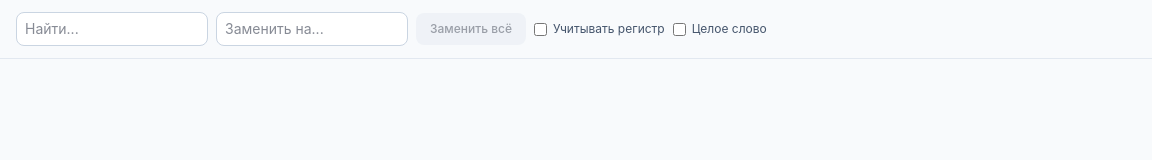
Test case: FindReplacePanel › excludes case-mismatched matches once "Учитывать регистр" is checked
Type "ВОЛКА" into the field labelled "Найти".
click(112, 29); type("ВОЛКА")  # box [16,12,208,46]
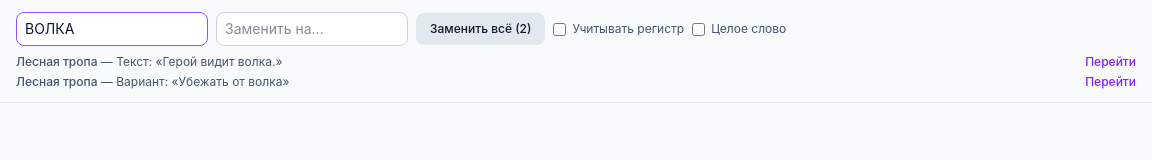
Check: the button "Заменить всё (2)" is shown, box [416,13,545,45]
Click the checkbox labelled "Учитывать регистр".
click(560, 29)  # box [553,22,566,36]
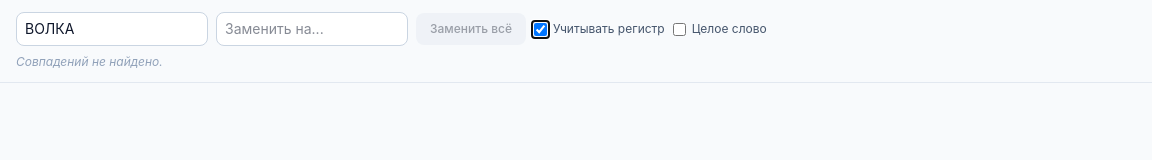
Check: the text "Совпадений не найдено." is shown, box [16,54,163,69]
